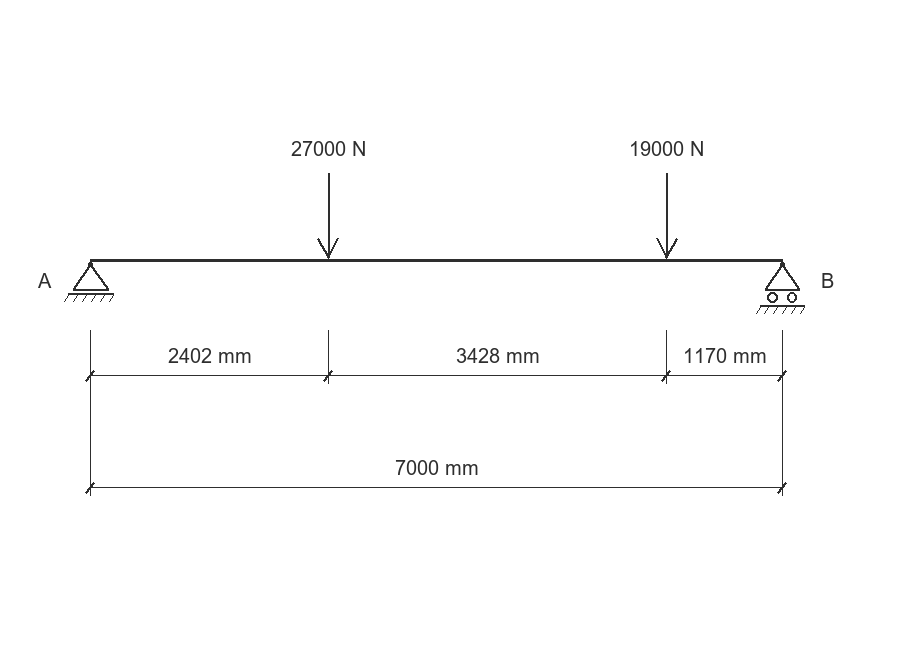pin_support: (64, 262, 114, 302)
point_load: (317, 173, 339, 259), (656, 173, 678, 259)
roller_support: (756, 262, 805, 314)
